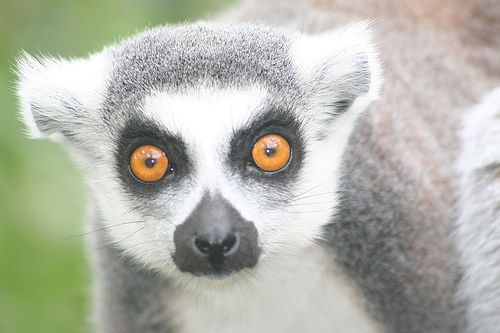cat: (10, 2, 498, 332)
